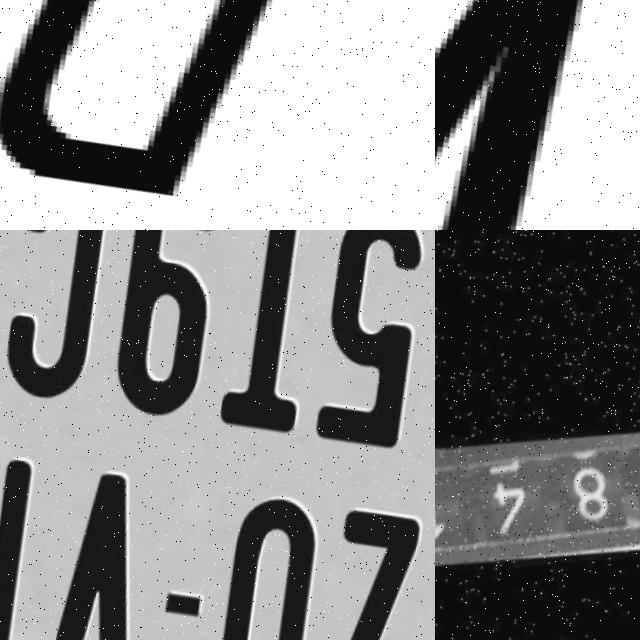0: (193, 492, 331, 640)
1: (435, 482, 455, 550)
4: (477, 477, 538, 552)
5: (296, 230, 435, 463)
8: (557, 464, 619, 536)
9: (94, 230, 241, 431)
C: (0, 230, 123, 412)
D: (0, 0, 435, 230)
H: (0, 444, 42, 640)
T: (197, 230, 337, 446)
V: (435, 0, 633, 230), (16, 471, 163, 640)
Z: (301, 507, 431, 640)
